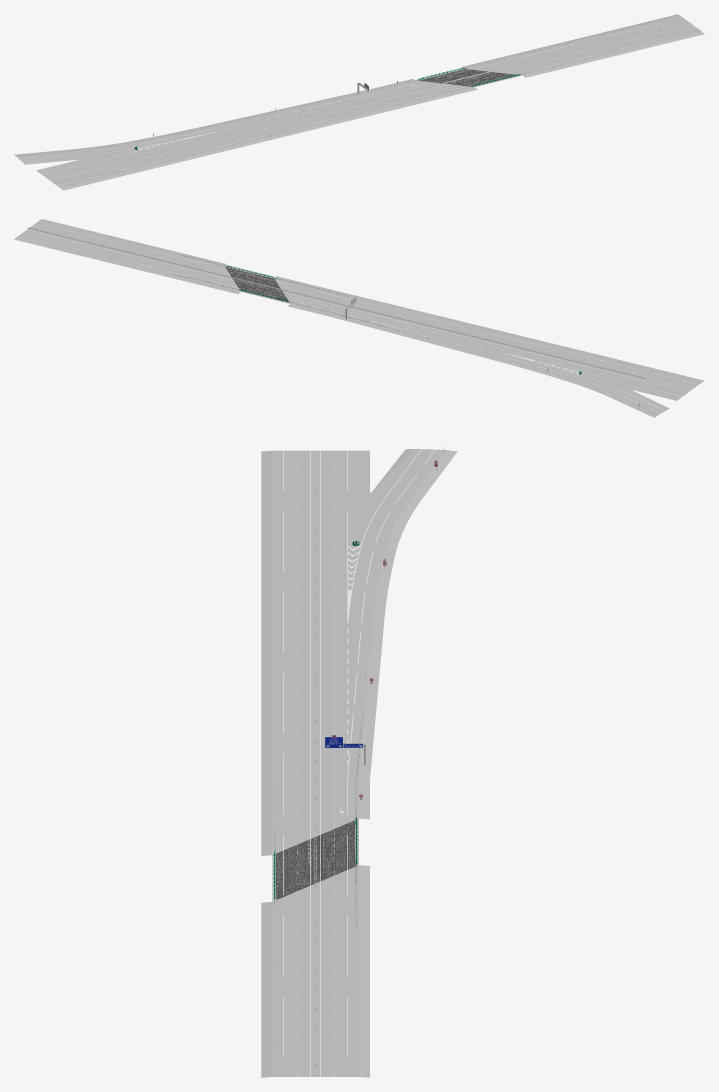
3 renders of one model, top to bottom at view 1: azimuth 30°, elevation 25°; view 2: azimuth 150°, elevation 25°; view 3: azimuth 270°, elevation 25°, orthographic. The views are drawn at different scales.
Visible parts, largest first — view 1: SketchUp (×18); view 2: SketchUp (×17); view 3: SketchUp (×15).
Boxes of the visible parts, x1,y1,x2,y2 form: SketchUp (×18): [14, 14, 704, 190]; SketchUp (×17): [14, 219, 704, 417]; SketchUp (×15): [261, 449, 457, 1077].
Bounding box in the file's own units: 15924 × 2104 × 392.
